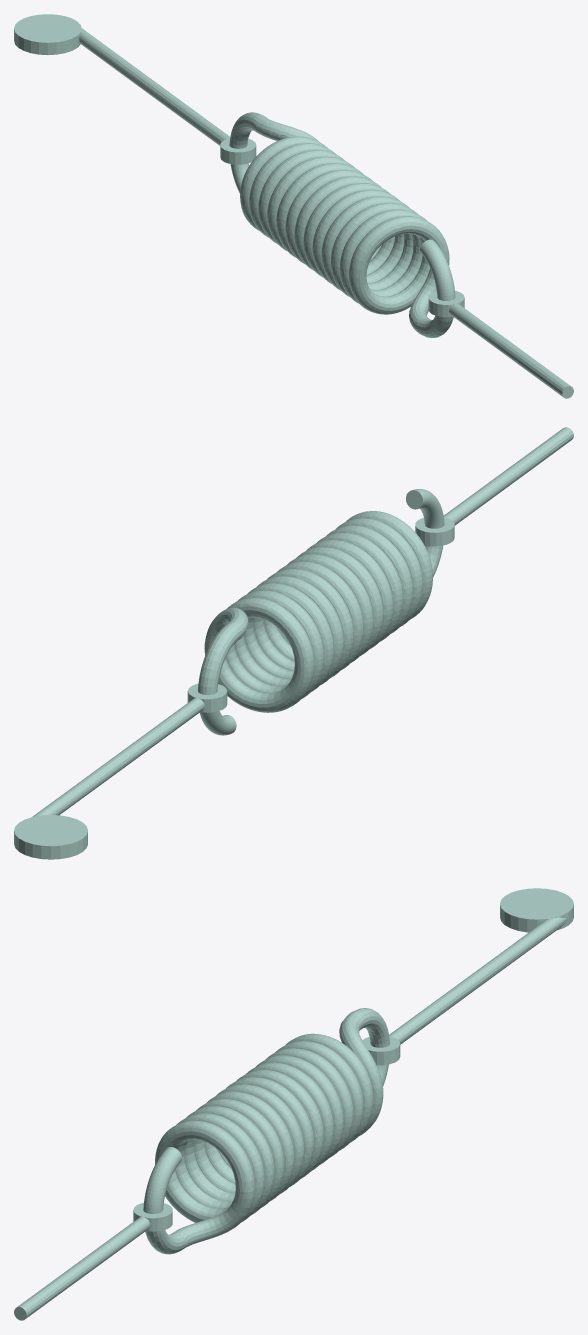
Rendered from spring_part_a.dae.
3 renders of one model, top to bottom at view 1: azimuth 30°, elevation 25°; view 2: azimuth 150°, elevation 25°; view 3: azimuth 330°, elevation 25°, orthographic. The views are drawn at different scales.
Visible parts, largest first — view 1: Spring_Part_A; view 2: Spring_Part_A; view 3: Spring_Part_A.
Part boxes in pixels (bbox=[...]): Spring_Part_A: bbox=[14, 14, 573, 398]; Spring_Part_A: bbox=[14, 427, 573, 859]; Spring_Part_A: bbox=[14, 888, 573, 1320].
Size of the model in its own units: 0.0255 by 0.2269 by 0.024.
